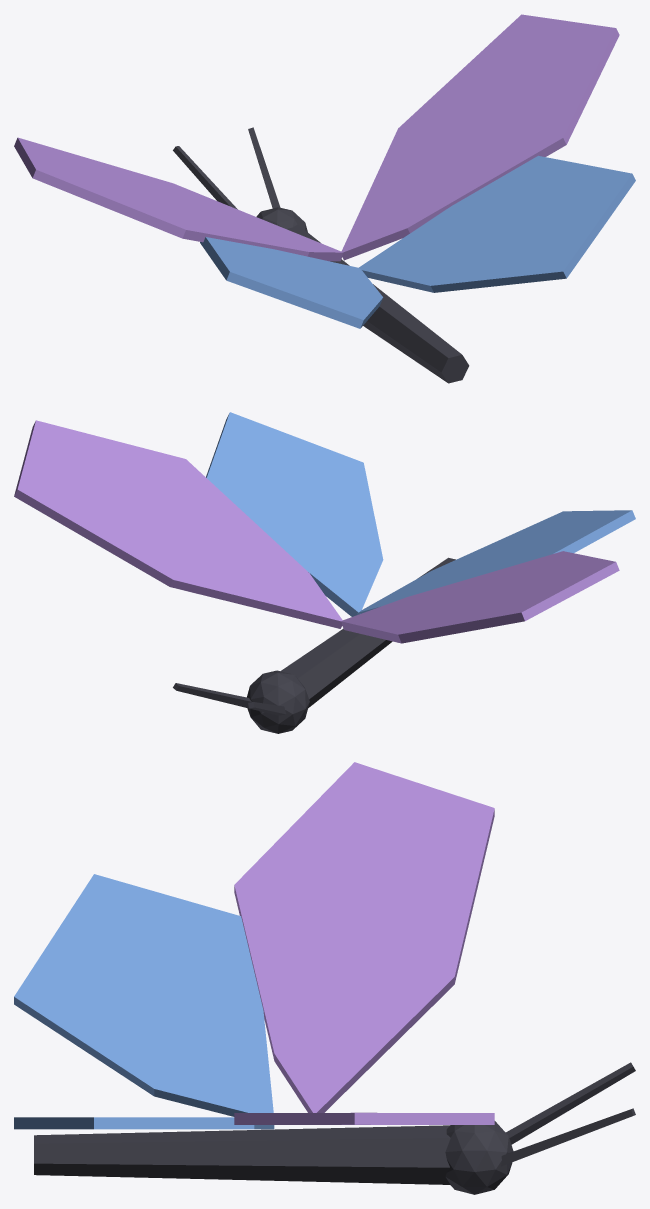
Rendered from deco_butterfly_blue.obj.
3 views of the same model, one above another, from view 1: azimuth 30°, elevation 25°; view 2: azimuth 150°, elevation 25°; view 3: azimuth 270°, elevation 25° (orthographic). The views are drawn at different scales.
Parts seen in each view (by area): view 1: deco_butterfly_blue; view 2: deco_butterfly_blue; view 3: deco_butterfly_blue.
Part boxes in pixels (bbox=[...]): deco_butterfly_blue: bbox=[14, 14, 635, 383]; deco_butterfly_blue: bbox=[14, 412, 635, 733]; deco_butterfly_blue: bbox=[14, 762, 635, 1194].
Bounding box in the file's own units: 0.0839 × 0.028 × 0.0621.
1 material, 1 textured.
